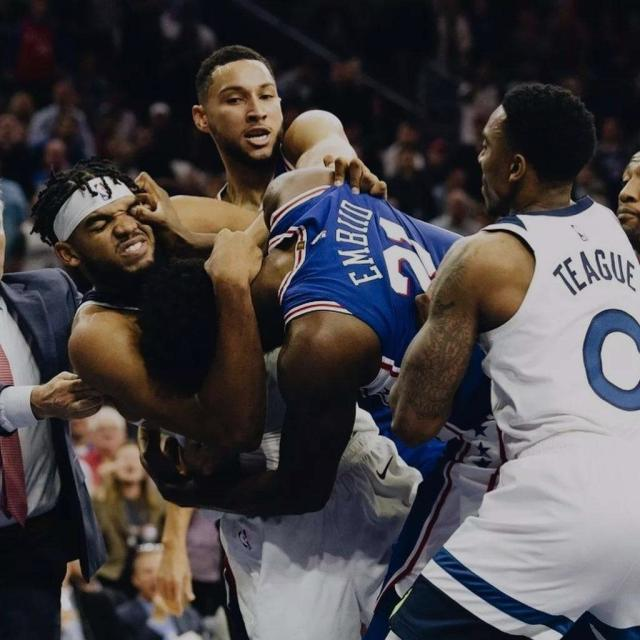fight: (2, 28, 620, 640)
